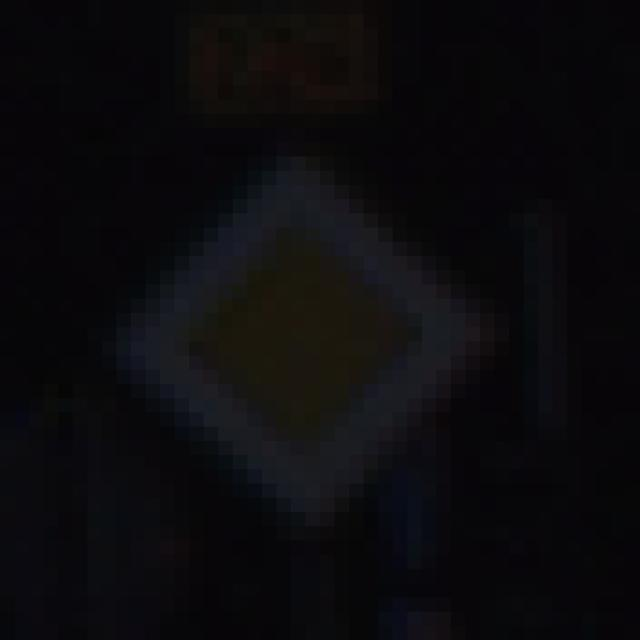Main Road: (74, 86, 568, 570)
